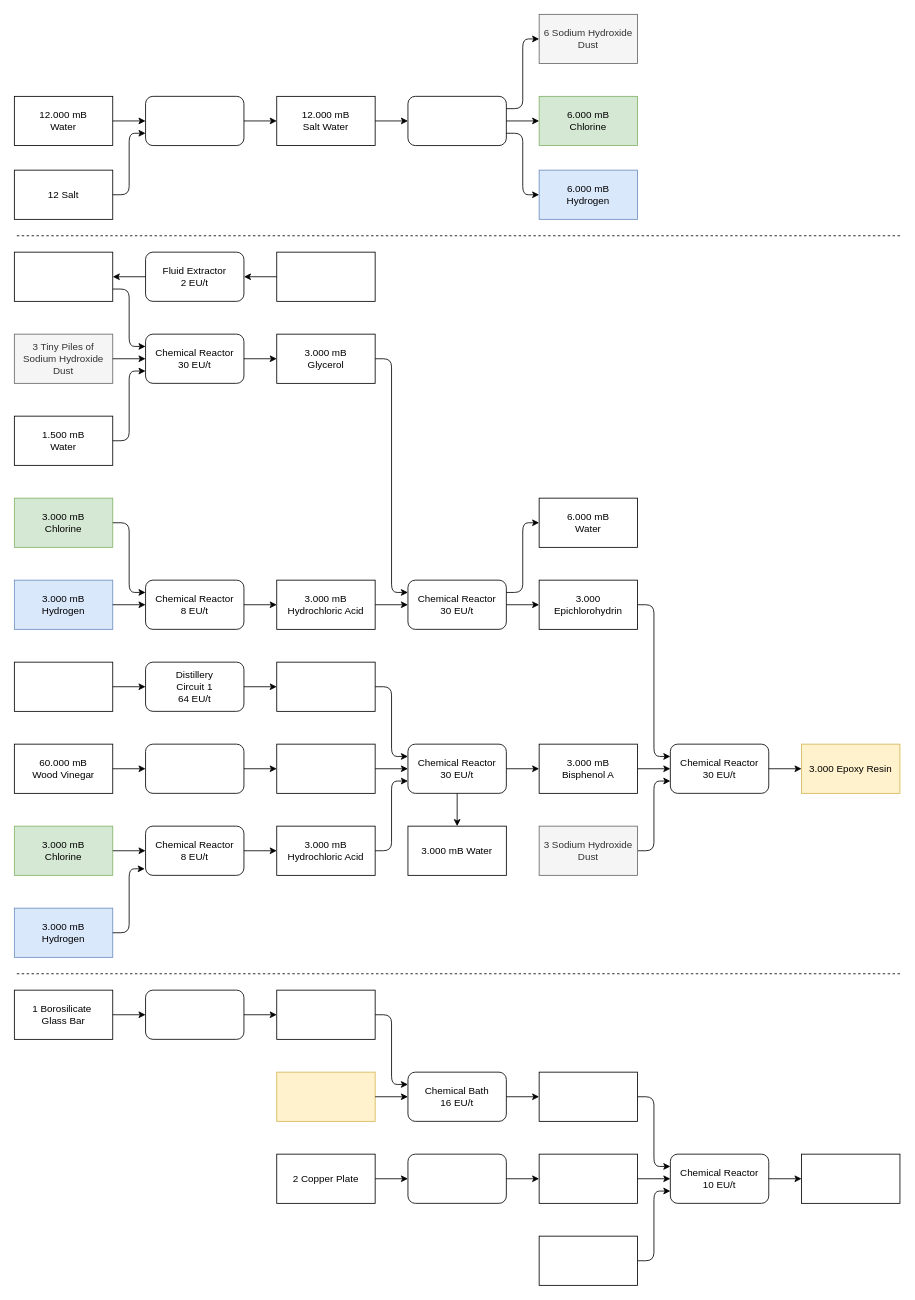
Image size: 915x1300. Some labels were removed from this diagram. The shapes that lost their labels are listed below. From the top down, each one's centre as x and y in pixels, then its label:
At point 194,121: "Chemical Reactor 18 EU/t".
At point 456,121: "Electrolyzer 30 EU/t".
At point 63,276: "1,500 mB Seed Oil".
At point 325,276: "Seeds".
At point 63,686: "80.000 mB Wood Tar".
At point 325,686: "6.000 mB Phenol".
At point 194,768: "Distillery Circuit 4 64 EU/t".
At point 325,768: "3.000 mB Aceton".
At point 194,1014: "Extruder 96 EU/t".
At point 325,1014: "8 Glass Fiber".
At point 325,1096: "1.152 mB Epoxy Resin".
At point 588,1096: "8 Fiber-reinforced Epoxy Resin Sheet".
At point 456,1178: "Metal Bender Circuit 4 24 EU/t".
At point 588,1178: "8 Copper Foil".
At point 850,1178: "8 Fiber reinforced circuit board".
At point 588,1260: "1.000 mB Sulfuric Acid".
